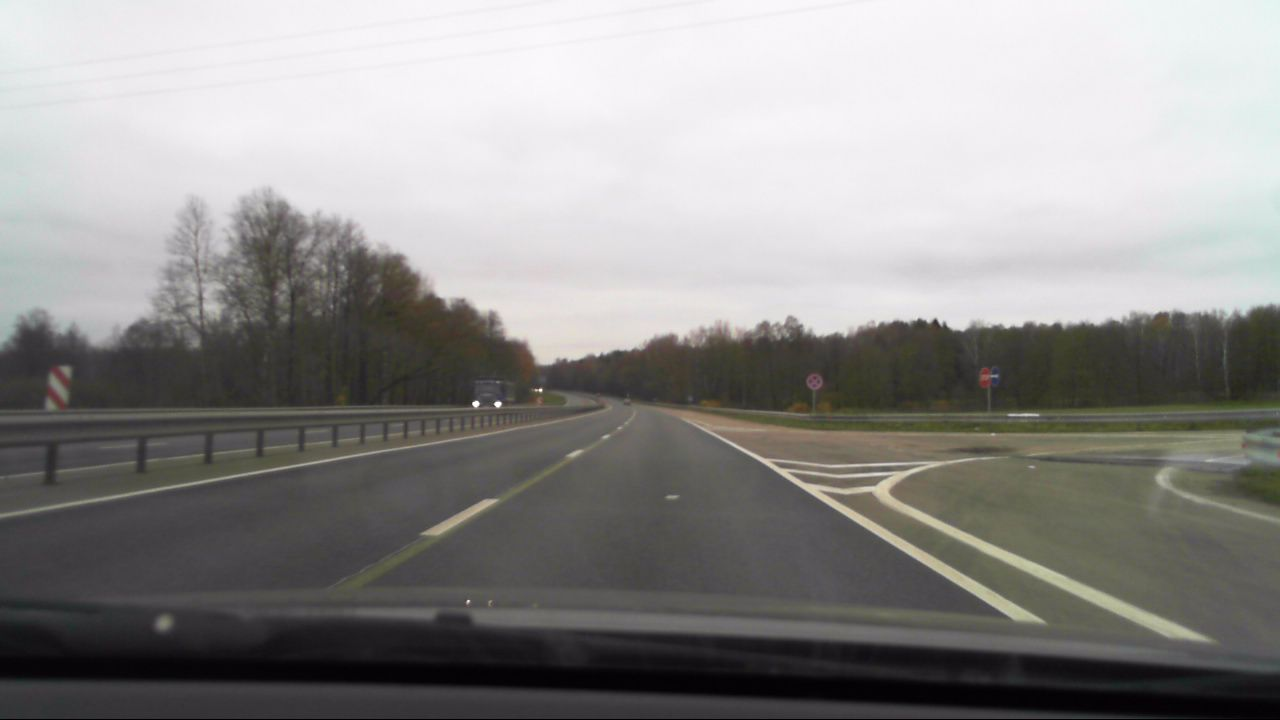No Parking: (806, 371, 827, 392)
